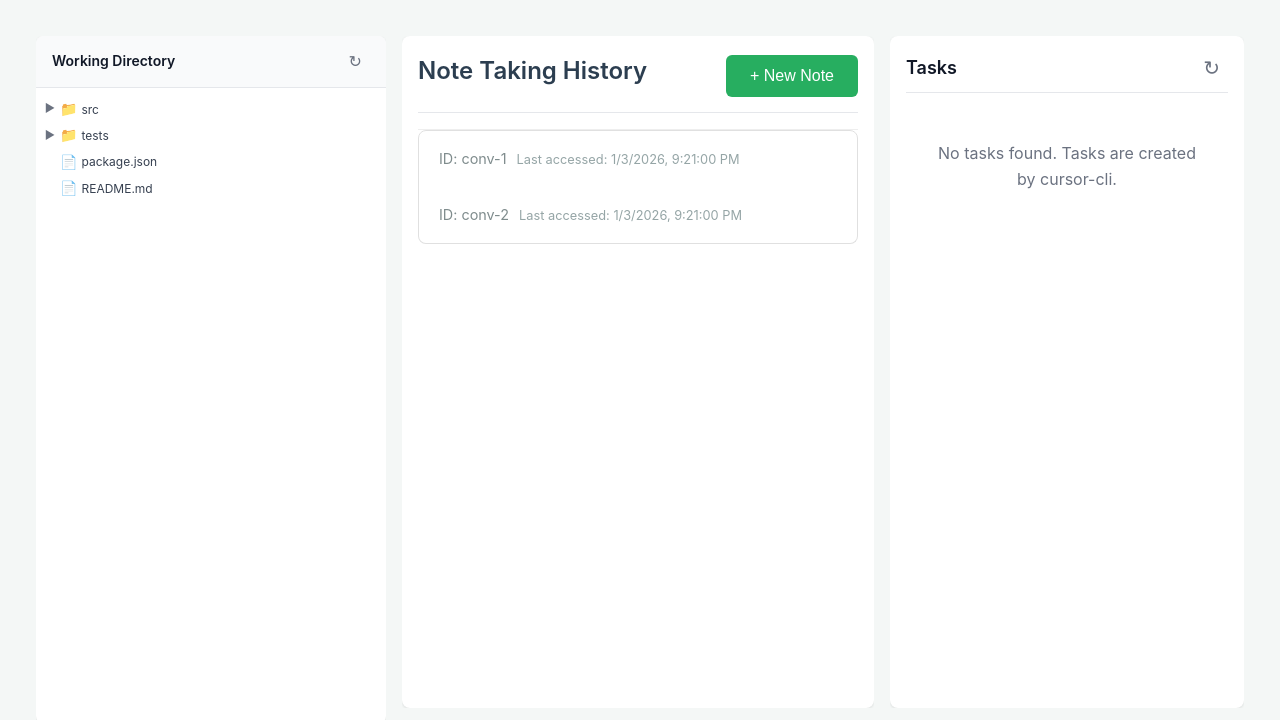
it: Working Directory Tree Integration › keyboard navigation works across nested tree nodes
Expand src directory to load children
Click the button "▶ 📁 src" at (72, 109), box [44,96,99,122]
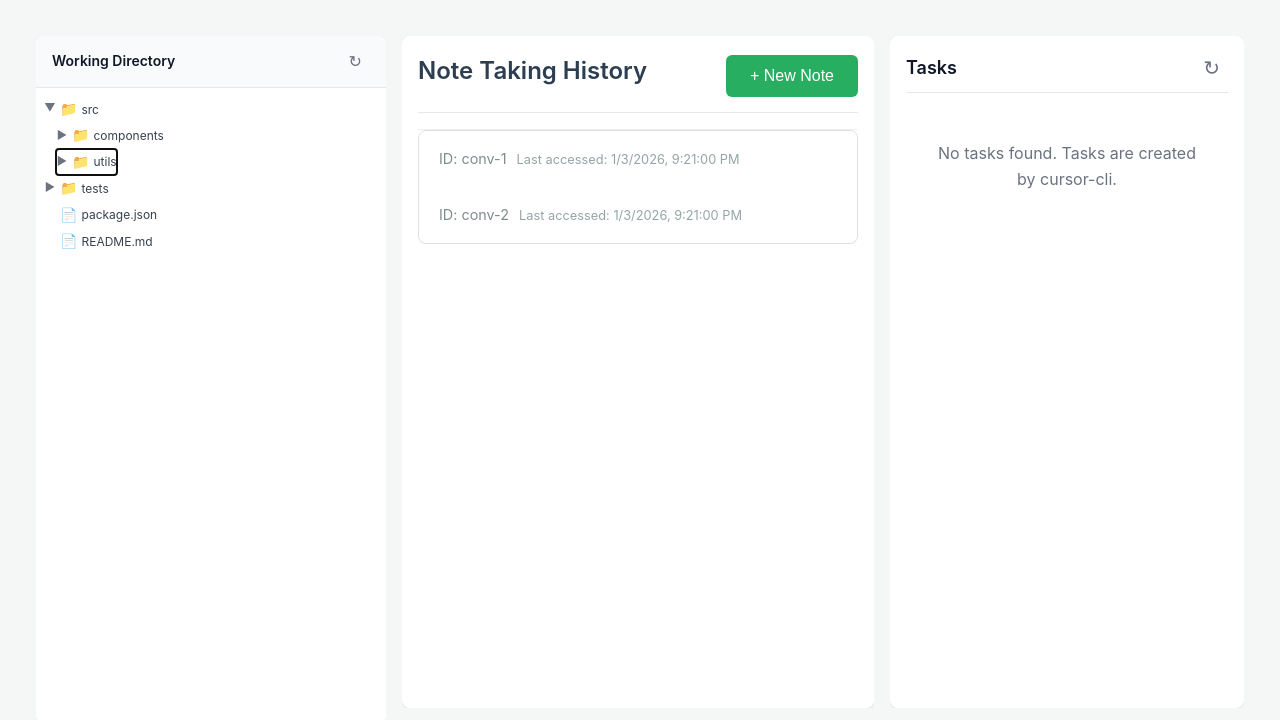
Expected: the text "components" is shown, [94,126,164,145]
Expected: the text "utils" is shown, [94,152,117,172]
Expected: the button "▶ 📁 utils" is shown, [56,149,117,175]
Press Enter
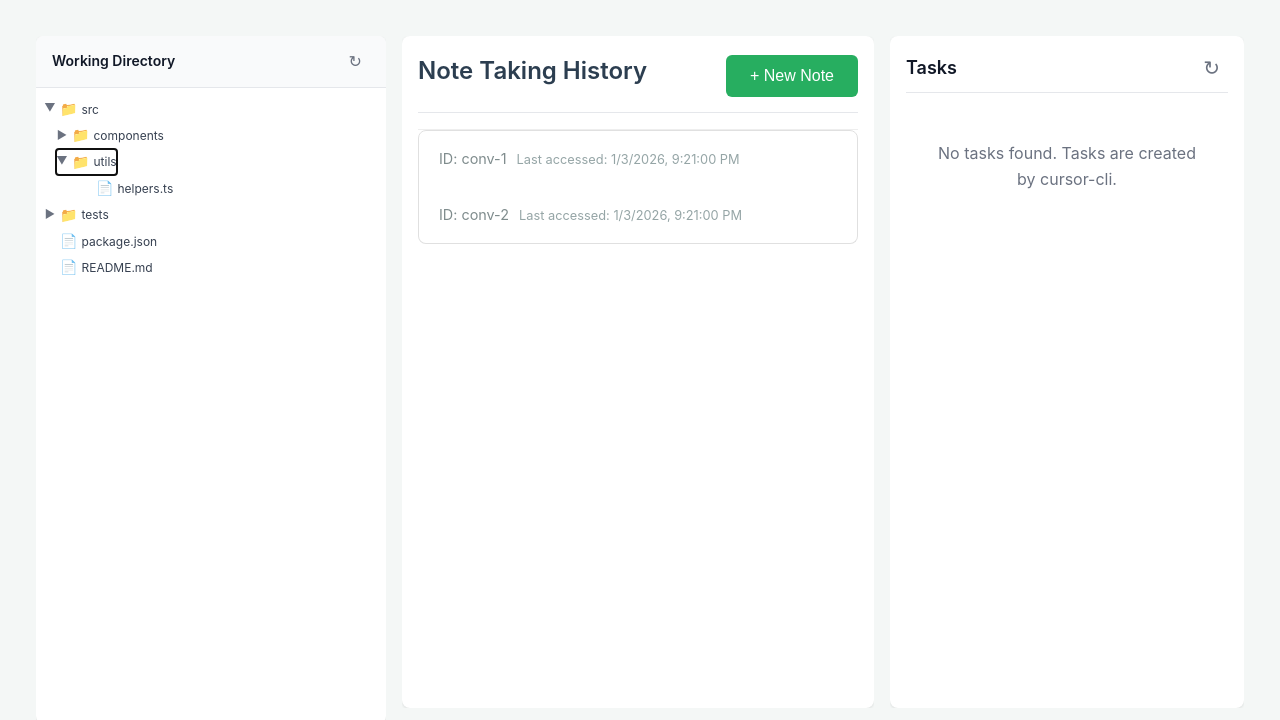
Expected: the text "helpers.ts" is shown, [118,179,173,198]
